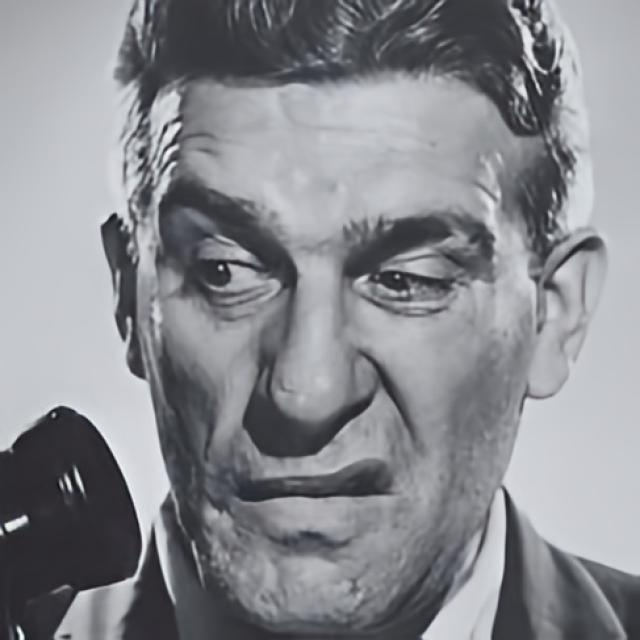disgust: (134, 54, 538, 635)
